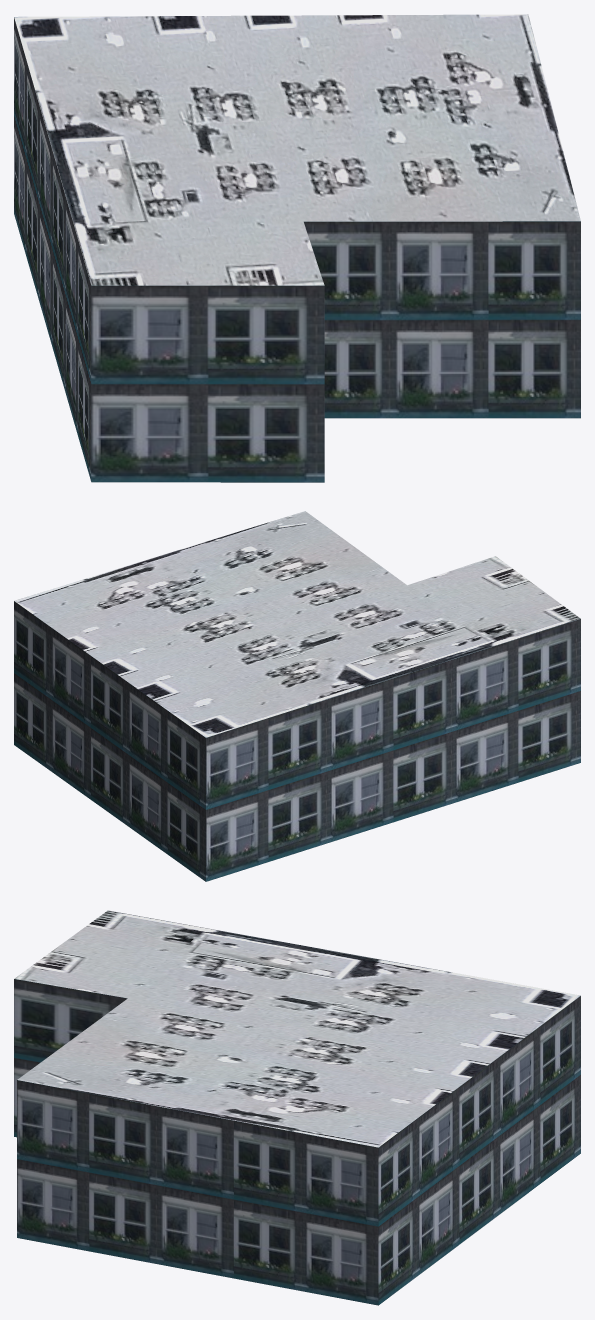
File: ResTex__2537.fbx
The picture shows the model from 3 angles, top to bottom: view 1: azimuth 30°, elevation 25°; view 2: azimuth 150°, elevation 25°; view 3: azimuth 270°, elevation 25°; orthographic projection. The views are drawn at different scales.
Visible parts, largest first — view 1: CityEngineMaterial_m, CityEngineMaterial_11_m; view 2: CityEngineMaterial_11_m, CityEngineMaterial_m; view 3: CityEngineMaterial_11_m, CityEngineMaterial_m.
Boxes of the visible parts, box(x1,y1,x2,y2) form: CityEngineMaterial_m: box(14, 14, 580, 285); CityEngineMaterial_11_m: box(14, 17, 580, 482); CityEngineMaterial_11_m: box(14, 601, 580, 881); CityEngineMaterial_m: box(14, 511, 580, 737); CityEngineMaterial_11_m: box(14, 979, 580, 1305); CityEngineMaterial_m: box(14, 910, 580, 1147).
Size of the model in its own units: 19.33 by 6 by 19.52.
Materials: 2 (2 with a texture image).
